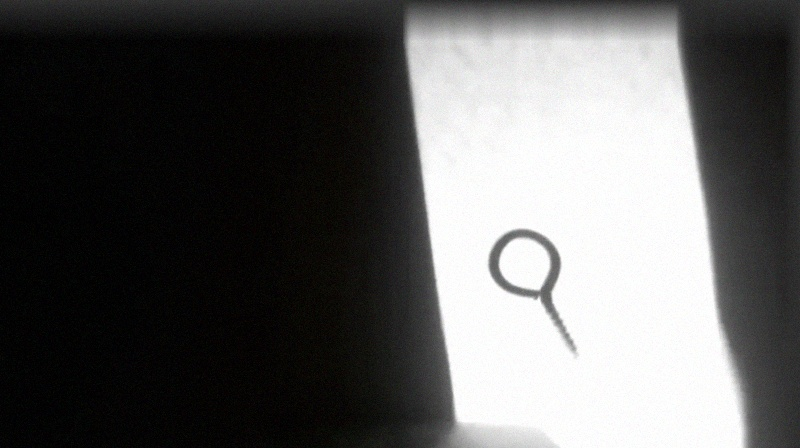O001: (485, 225, 585, 361)
